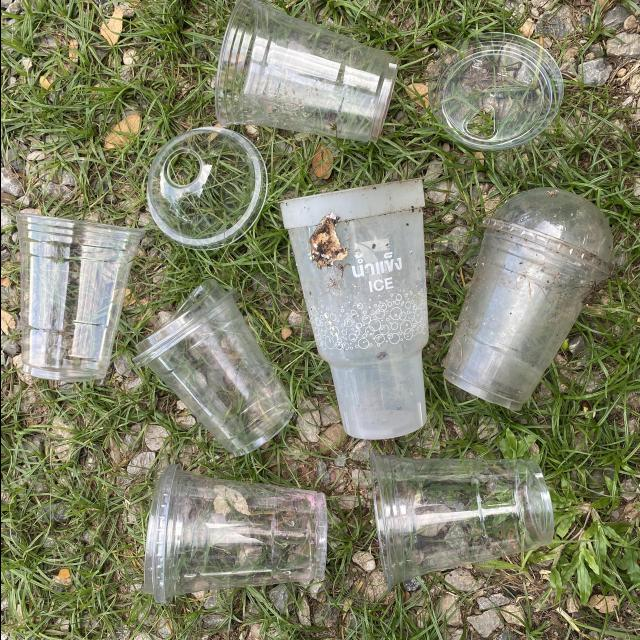plastik: (280, 179, 427, 439), (442, 188, 613, 411), (133, 280, 291, 456), (215, 0, 396, 141), (143, 465, 326, 603), (370, 452, 553, 588), (15, 214, 143, 381), (428, 33, 562, 150), (146, 126, 267, 250)
